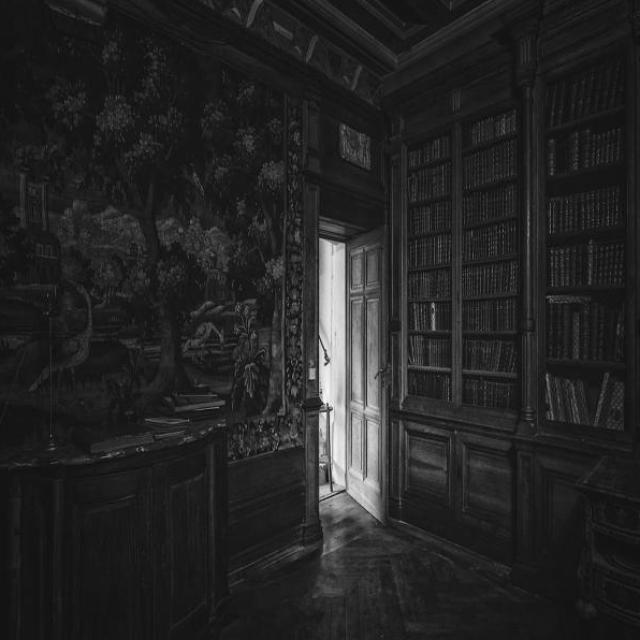Door: (344, 225, 389, 524)
